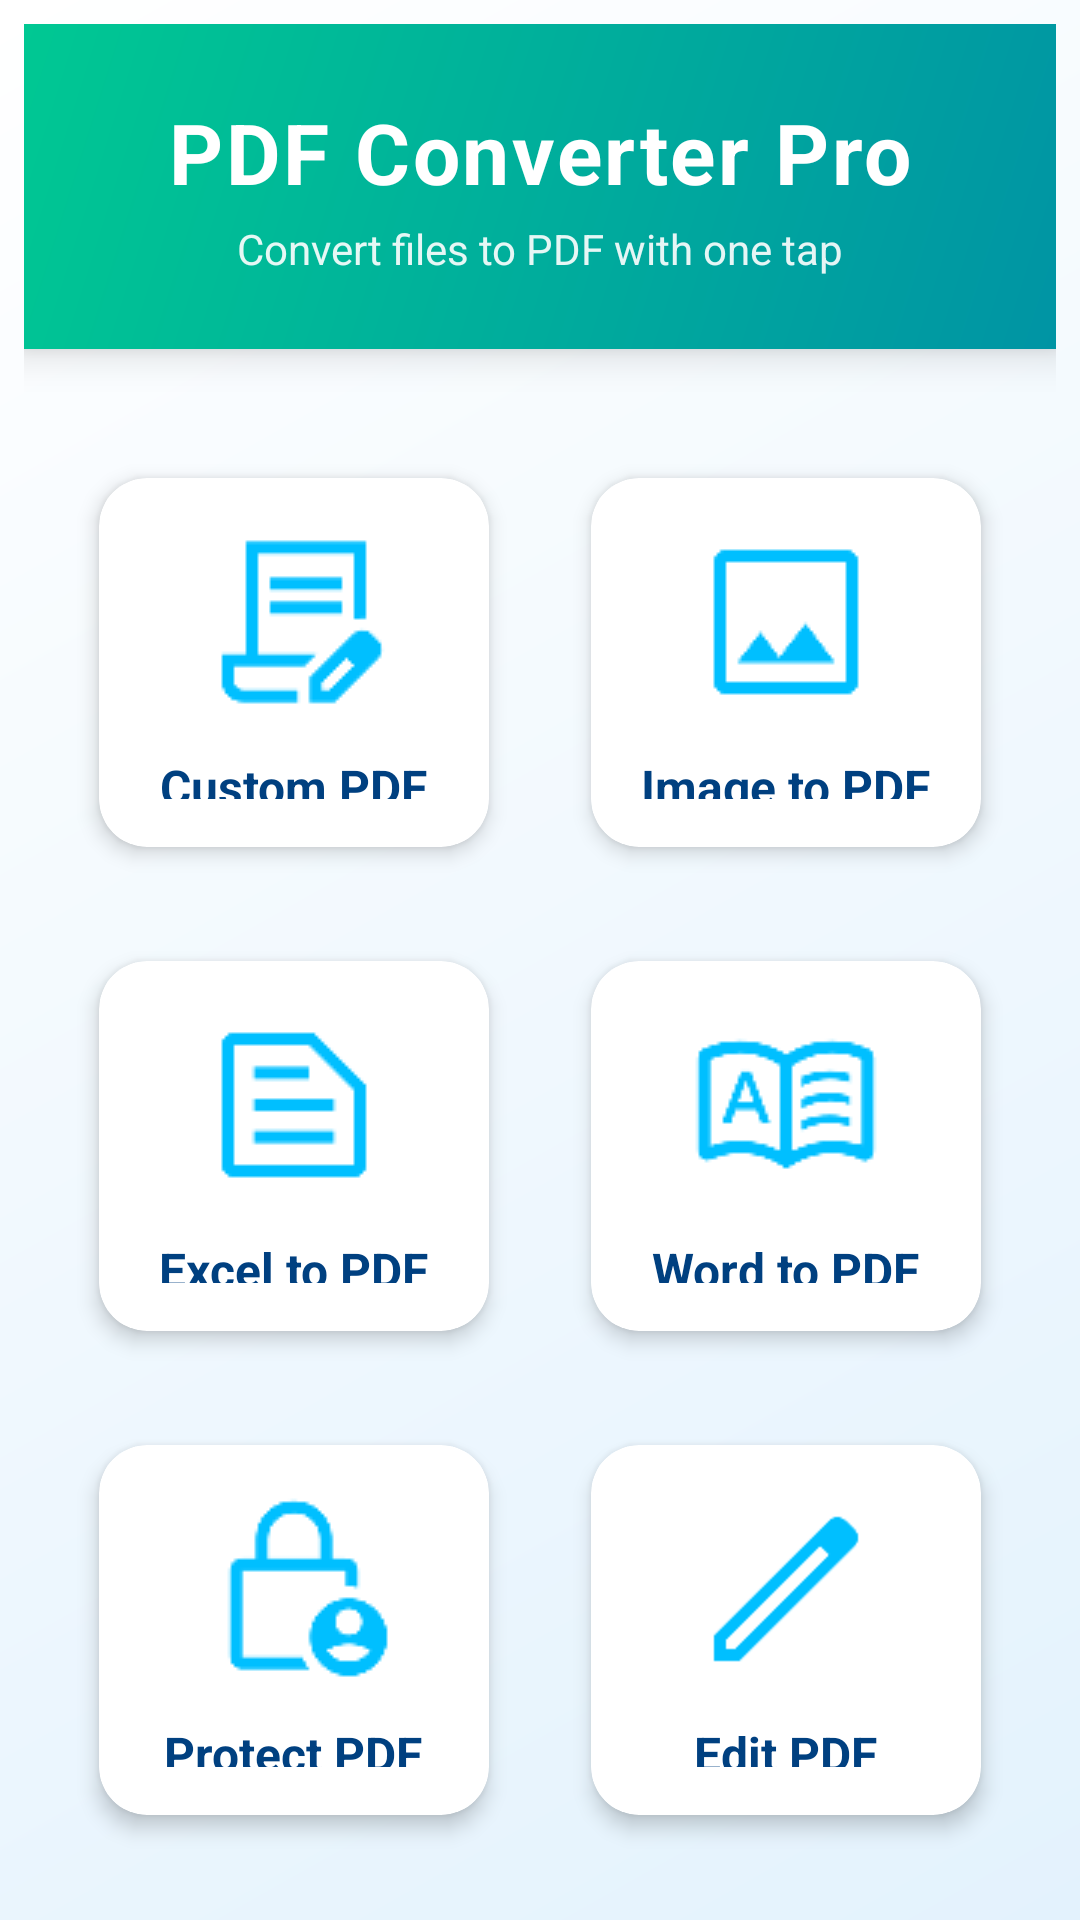

Icon bounding boxes for this 1080×1920 phone screenshot, format (left=x1, top=y1, right=x2, bottom=y2):
editor: (left=713, top=1516, right=859, bottom=1662)
gallery: (left=713, top=549, right=859, bottom=695)
text: (left=221, top=540, right=382, bottom=704)
